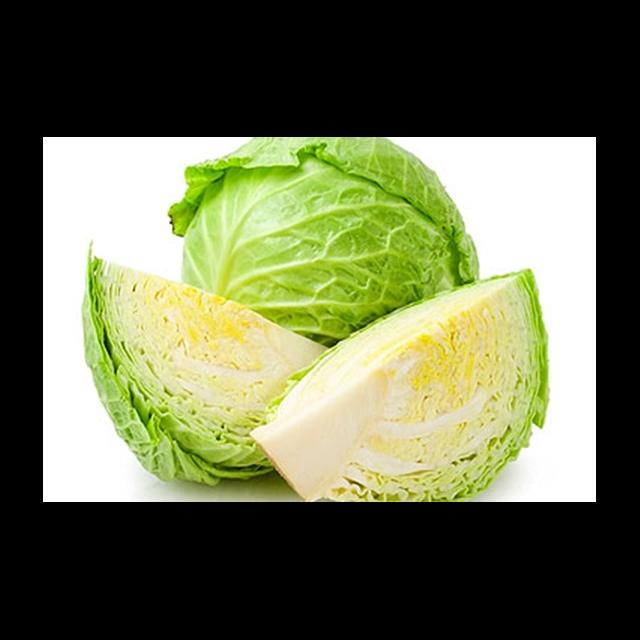cabbage: (248, 274, 542, 502), (178, 138, 481, 352), (81, 260, 332, 486)
